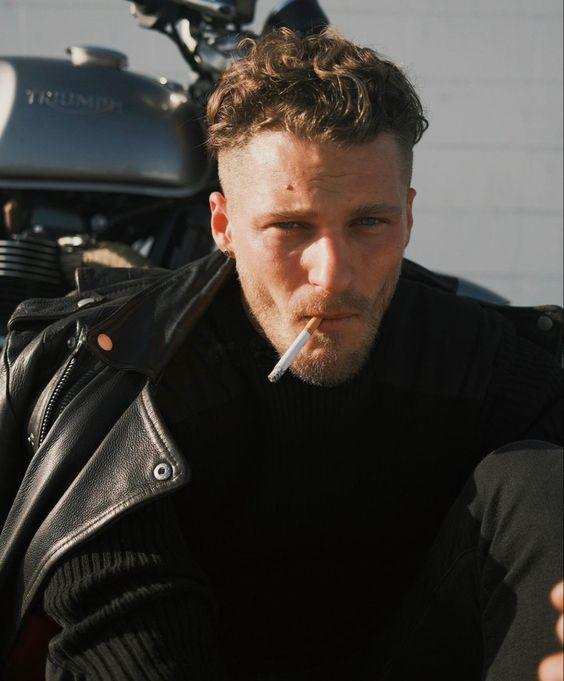cigarette: (267, 316, 324, 384)
